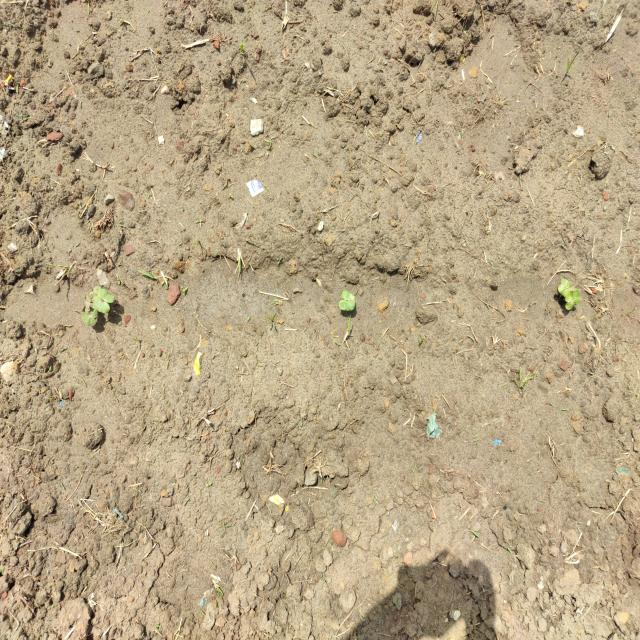seedling_s1: (558, 279, 574, 298), (81, 310, 97, 325), (93, 299, 110, 313), (98, 288, 114, 302), (566, 297, 581, 310), (566, 289, 581, 302), (339, 299, 355, 311), (89, 287, 101, 300), (341, 291, 355, 301), (84, 293, 91, 312)
